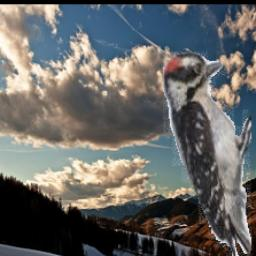Woodpecker: (162, 52, 251, 256)
